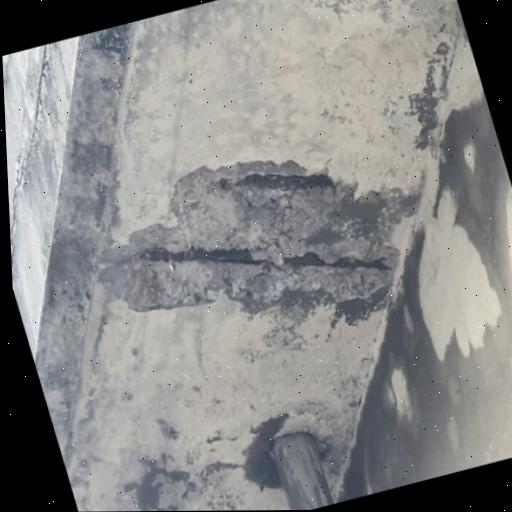exposed_rebar: (143, 246, 262, 266), (283, 251, 387, 269), (236, 173, 334, 191), (238, 173, 334, 191)
spalling: (99, 160, 415, 323)
